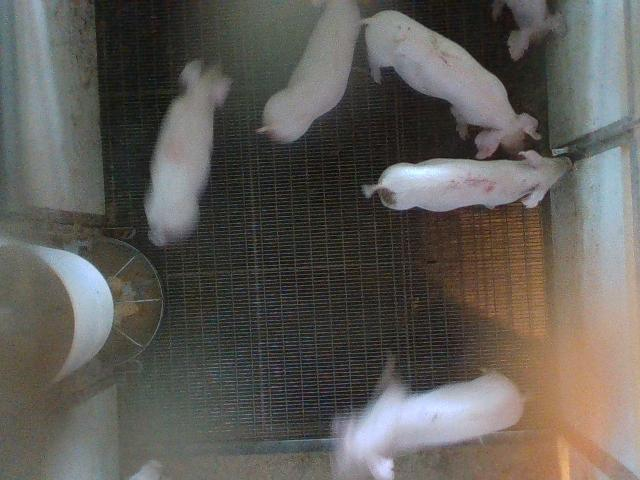pig-4: (144, 60, 231, 246)
pig-5: (362, 150, 571, 211)
